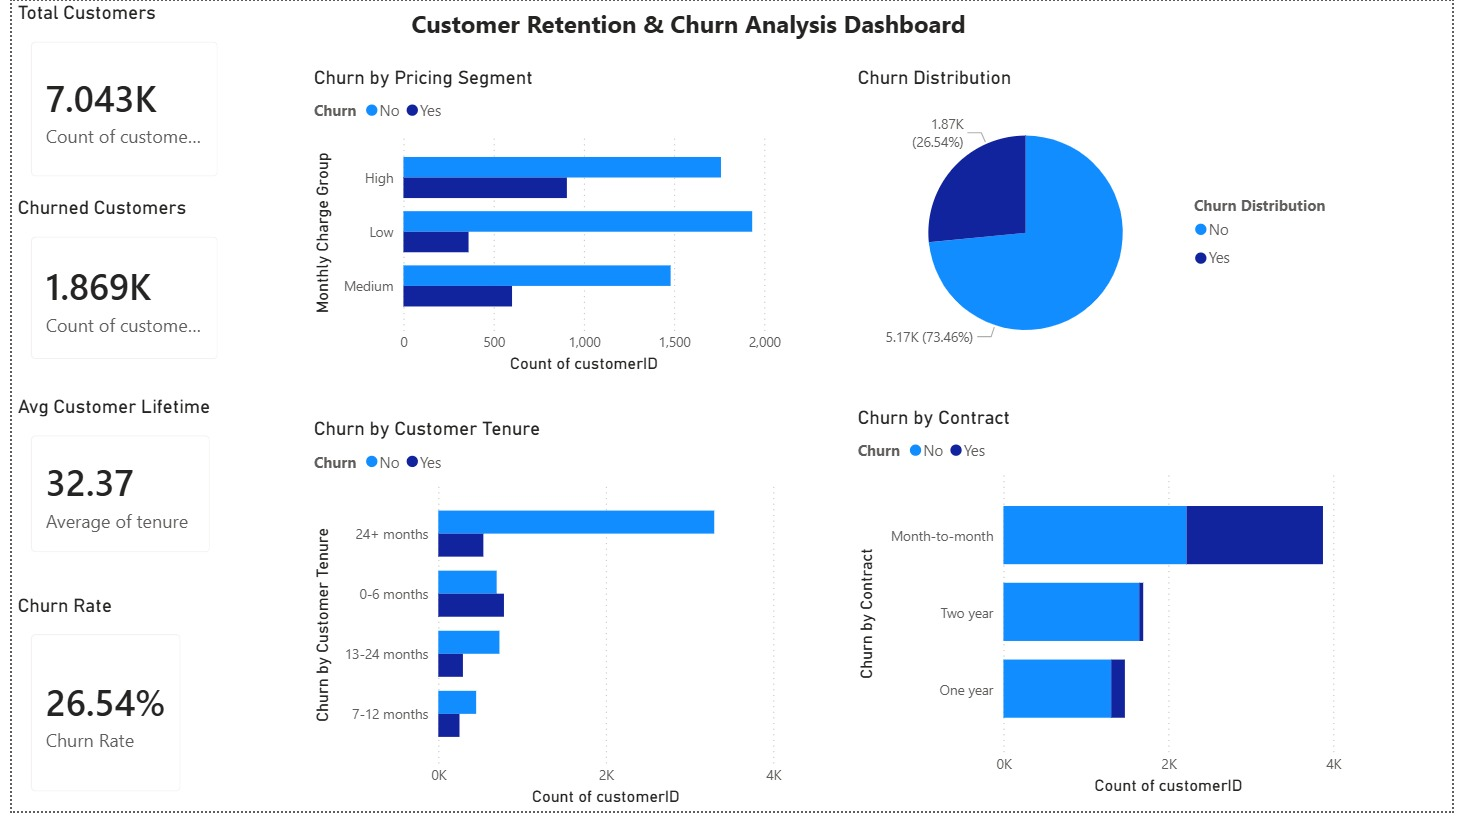

The page's visual inventory and layout, read from the dashboard file:
{"tool":"powerbi","page":{"name":"Page 1","canvas":[1280,720],"ordinal":0},"visuals":[{"type":"cardVisual","title":"Total Customers","fields":{"Data":["CountNonNull(customer_churn_ cleaned.customerID)"]},"box":[0,0,200,173.8],"z":0},{"type":"textbox","box":[350,0,535.6,68.9],"z":1000},{"type":"cardVisual","title":"Churned Customers","fields":{"Data":["CountNonNull(customer_churn_ cleaned.customerID)"]},"box":[0,173.8,200,162.5],"z":2000},{"type":"cardVisual","title":"Avg Customer Lifetime","fields":{"Data":["Avg(customer_churn_ cleaned.tenure)"]},"box":[0,350,193.8,157.5],"z":3000},{"type":"barChart","title":"Churn by Contract","fields":{"Y":["CountNonNull(customer_churn_ cleaned.customerID)"],"Category":["customer_churn_ cleaned.Contract"],"Series":["customer_churn_ cleaned.Churn"]},"box":[746.2,360,440,350],"z":4000},{"type":"pieChart","title":"Churn Distribution","fields":{"Category":["customer_churn_ cleaned.Churn"],"Y":["CountNonNull(customer_churn_ cleaned.customerID)"]},"box":[746.7,57.8,440,277.8],"z":5000},{"type":"cardVisual","title":"Churn Rate","fields":{"Data":["customer_churn_ cleaned.Churn Rate"]},"box":[0,526.2,167.5,193.8],"z":6000},{"type":"clusteredBarChart","title":"Churn by Customer Tenure","fields":{"Y":["Count(customer_churn_ cleaned.customerID)"],"Series":["customer_churn_ cleaned.Churn"],"Category":["customer_churn_ cleaned.Tenure Group"]},"box":[263.3,370,425.6,350],"z":7000},{"type":"clusteredBarChart","title":" Churn by Pricing Segment","fields":{"Y":["CountNonNull(customer_churn_ cleaned.customerID)"],"Series":["customer_churn_ cleaned.Churn"],"Category":["customer_churn_ cleaned.Monthly Charge Group"]},"box":[263.3,57.8,425.6,277.8],"z":8000}]}

Visuals, with their boxes in screenshot pixels (x1, y1, x2, y2), scaled from the page's 1280x720 canvas onto the 1459x820 screenshot:
"Total Customers" cardVisual: (x1=0, y1=0, x2=228, y2=198)
textbox: (x1=399, y1=0, x2=1009, y2=78)
"Churned Customers" cardVisual: (x1=0, y1=198, x2=228, y2=383)
"Avg Customer Lifetime" cardVisual: (x1=0, y1=399, x2=221, y2=578)
"Churn by Contract" barChart: (x1=851, y1=410, x2=1352, y2=809)
"Churn Distribution" pieChart: (x1=851, y1=66, x2=1353, y2=382)
"Churn Rate" cardVisual: (x1=0, y1=599, x2=191, y2=819)
"Churn by Customer Tenure" clusteredBarChart: (x1=300, y1=421, x2=785, y2=819)
" Churn by Pricing Segment" clusteredBarChart: (x1=300, y1=66, x2=785, y2=382)
